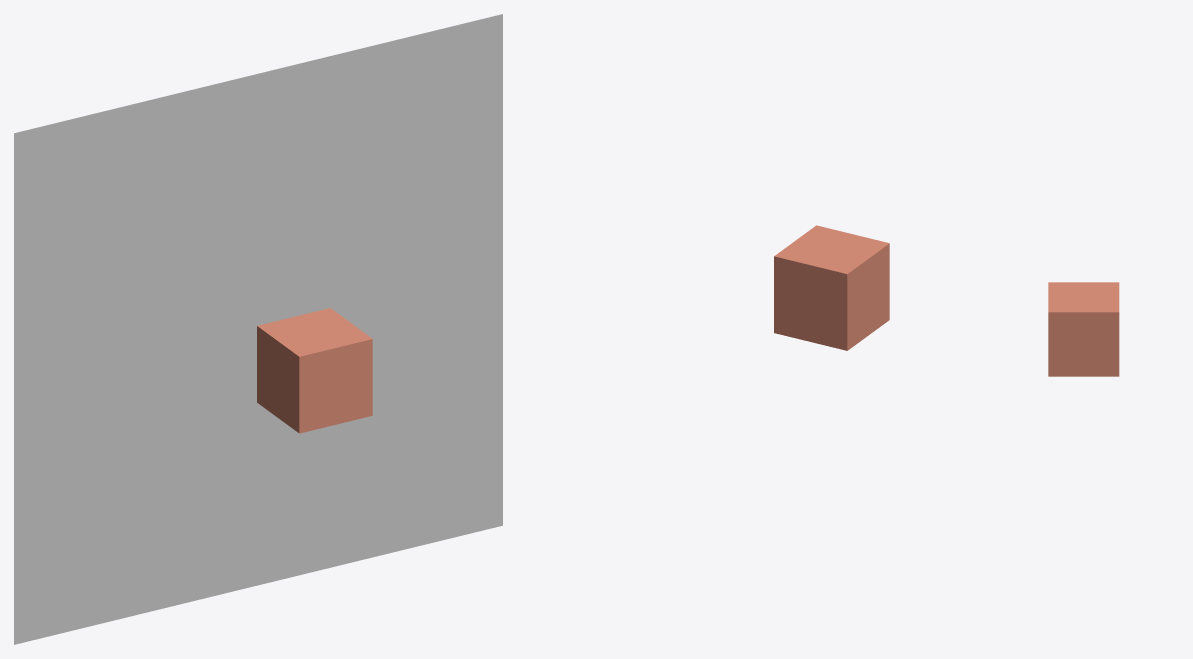
File: directional.gltf
3 views of the same model, side by side, from view 1: azimuth 30°, elevation 25°; view 2: azimuth 150°, elevation 25°; view 3: azimuth 270°, elevation 25° (orthographic). The views are drawn at different scales.
Parts seen in each view (by area): view 1: wall, box; view 2: box; view 3: box.
Part boxes in pixels (left/top/right/bottom): wall: left=14, top=14, right=502, bottom=644; box: left=257, top=308, right=372, bottom=433; box: left=774, top=225, right=889, bottom=350; box: left=1048, top=282, right=1119, bottom=376.
Size of the model in its own units: 4 by 4 by 1.1.
